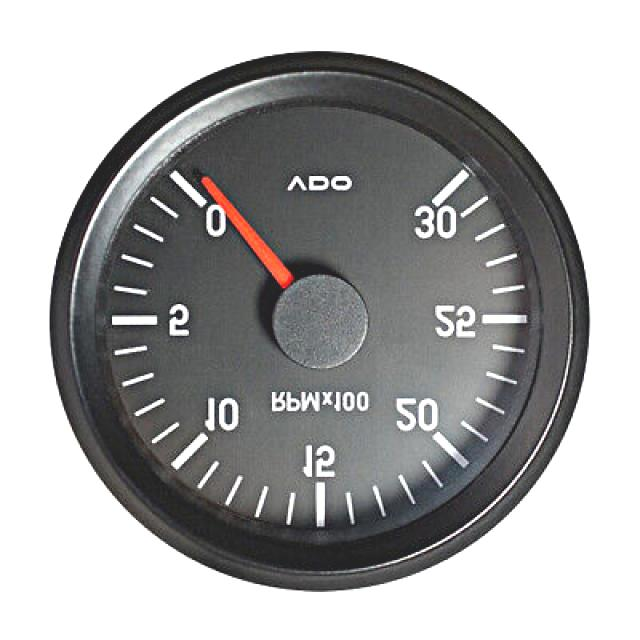Needle_Tip: (194, 158, 236, 205)
Needle_base: (284, 286, 366, 373)
max_value: (411, 196, 466, 249)
min_value: (195, 186, 247, 252)
